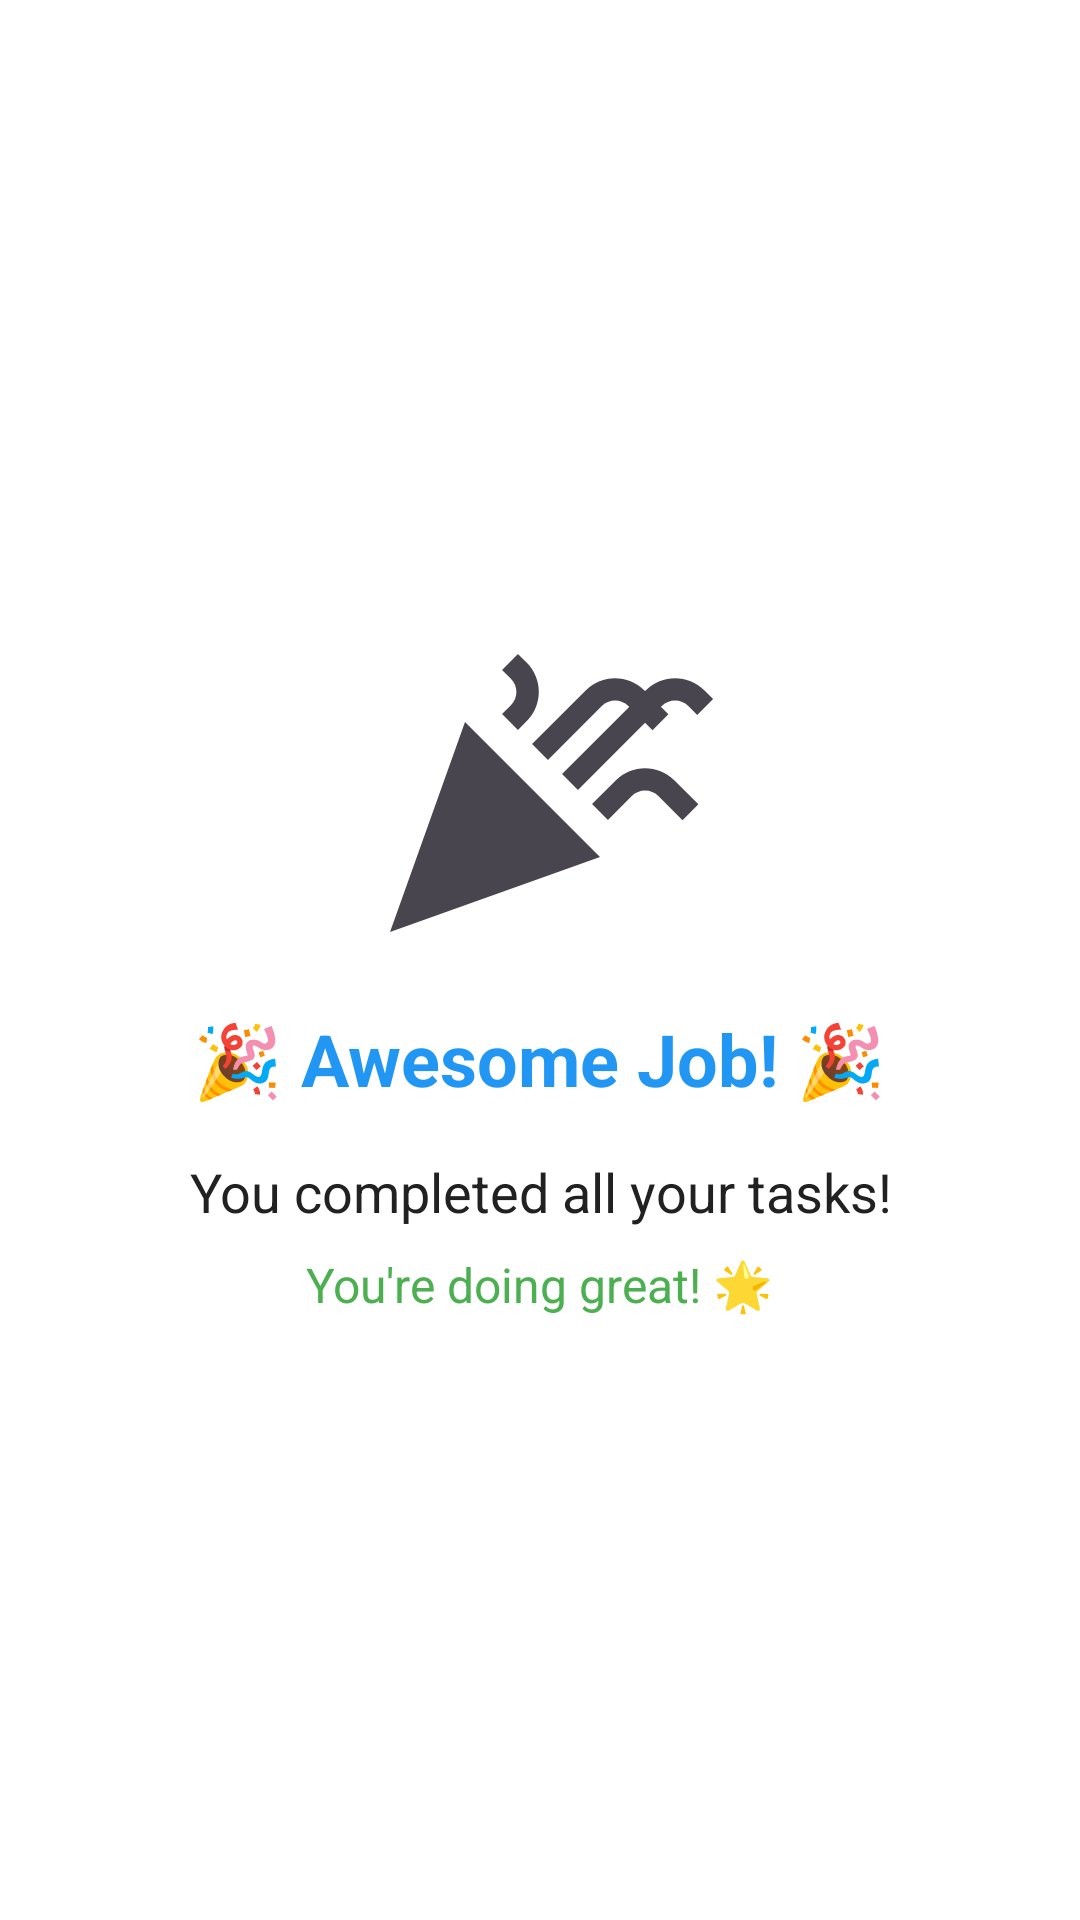

Screen size 1080w x 1920h. Icon name, then its center in pixels as point (x, y):
celebration: point (551, 793)
